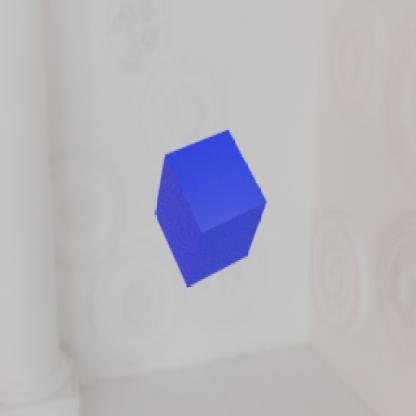blue_cube: (154, 128, 266, 288)
